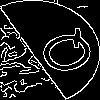Q: (25, 25, 100, 83)
